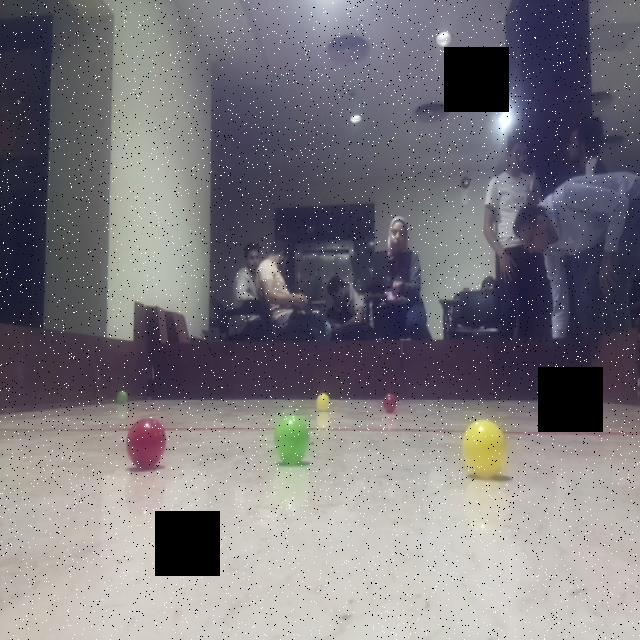ball: (112, 383, 134, 410)
